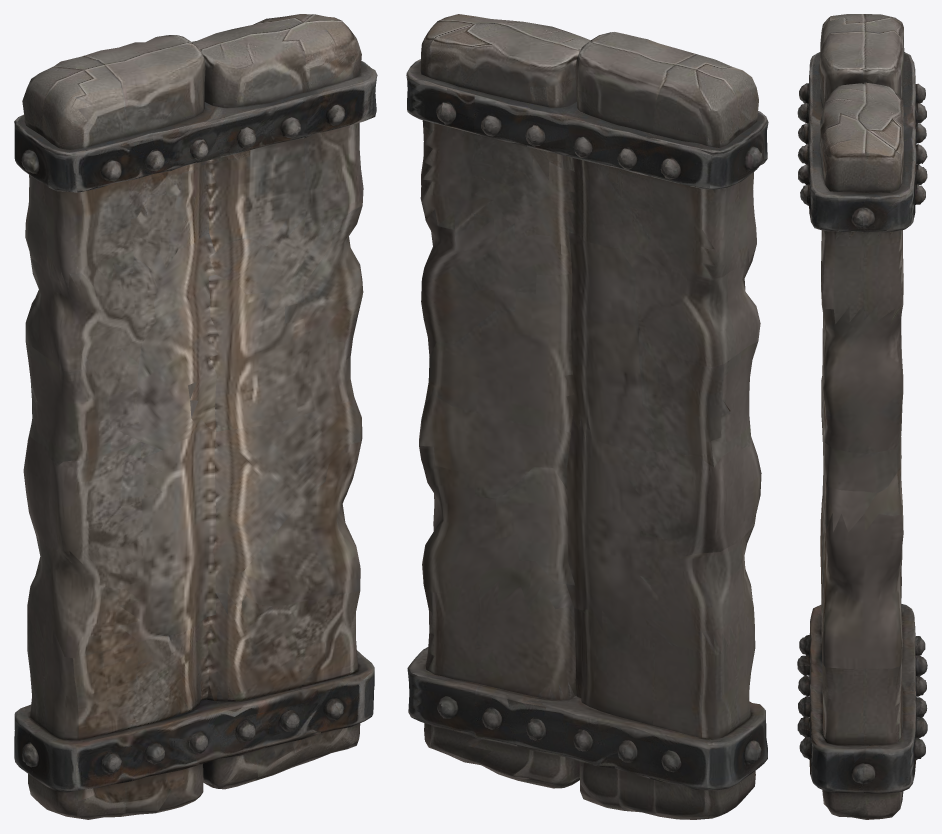
File: muro_invocador_minotauro.glb
3 renders of one model, left to right at view 1: azimuth 30°, elevation 25°; view 2: azimuth 150°, elevation 25°; view 3: azimuth 270°, elevation 25°, orthographic. The views are drawn at different scales.
Parts seen in each view (by area): view 1: mesh_node; view 2: mesh_node; view 3: mesh_node.
Boxes of the visible parts, x1,y1,x2,y2 form: mesh_node: (14, 14, 377, 819); mesh_node: (406, 14, 768, 819); mesh_node: (797, 14, 927, 819).
Size of the model in its own units: 0.4834 by 1 by 0.1694.
Materials: 1 (1 with a texture image).
